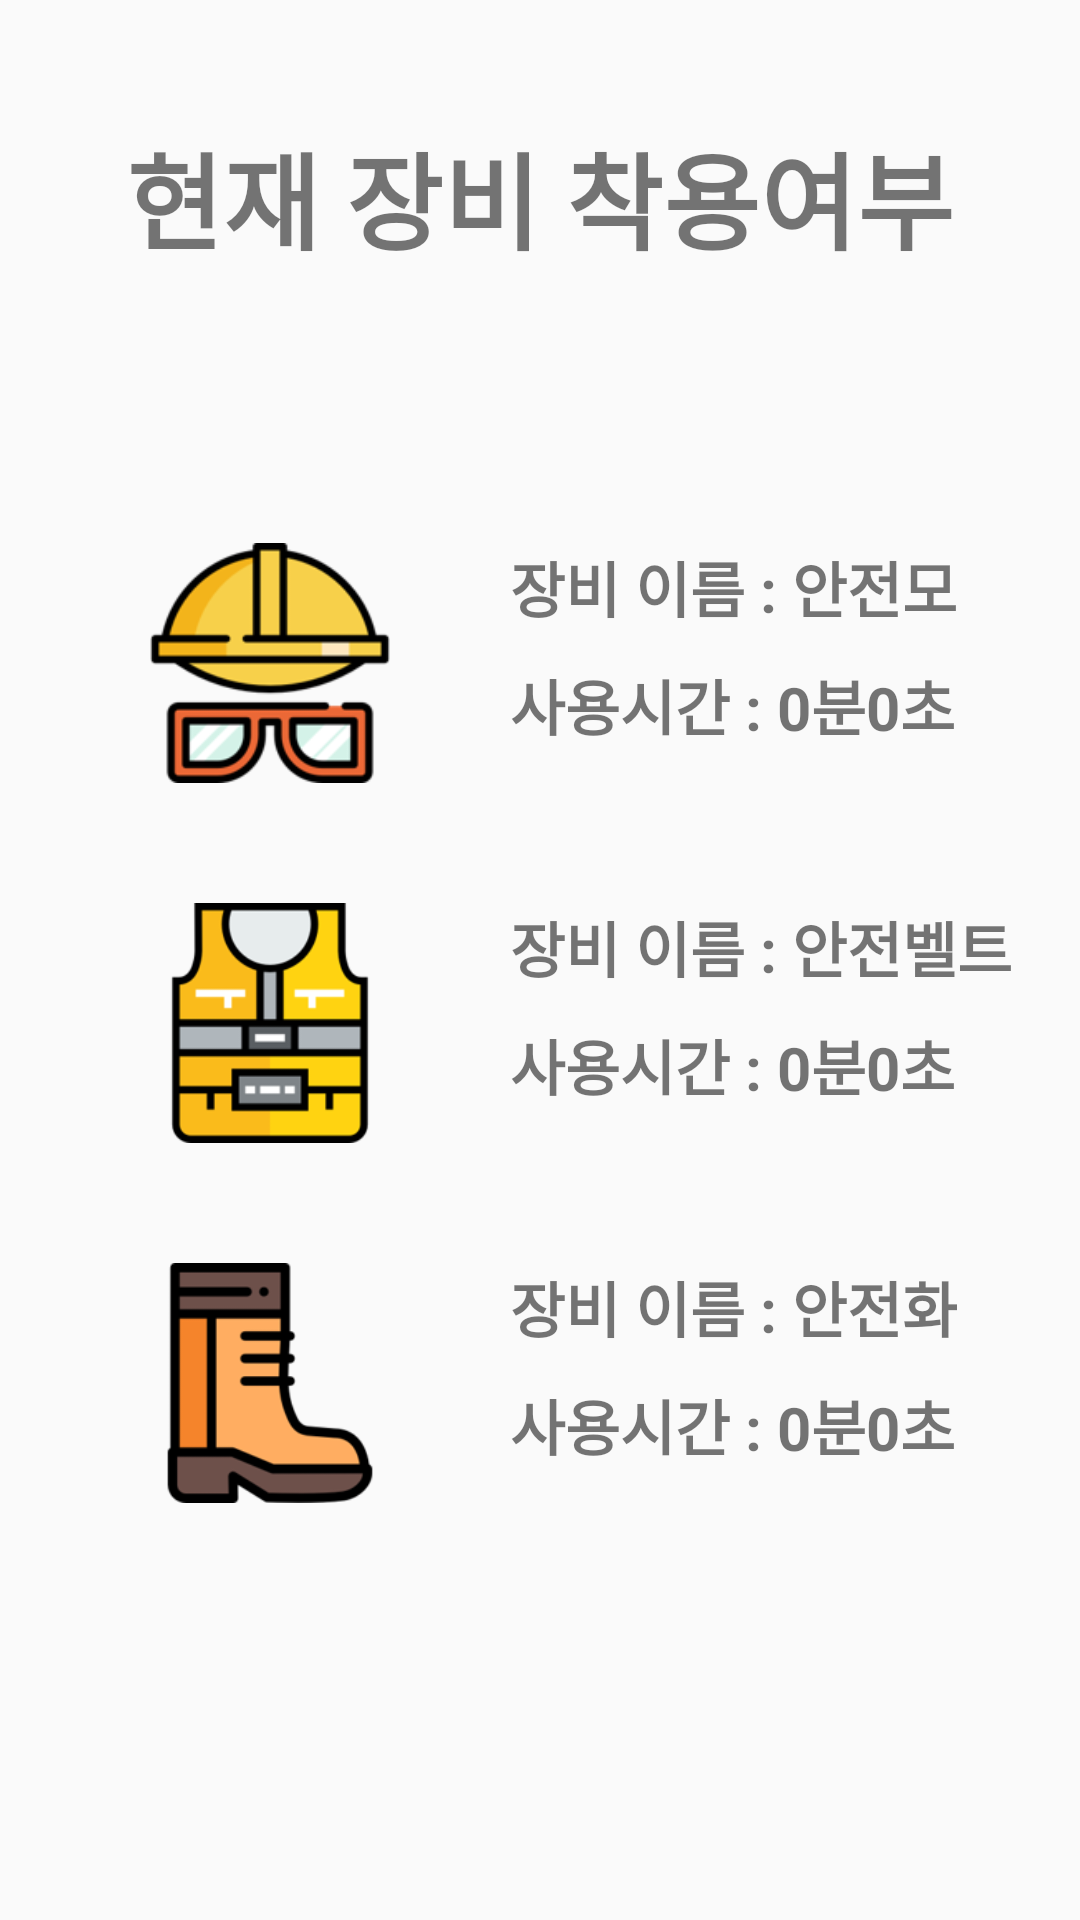

Named icons in this screenshot (1080×1920) and their bounding boxes, box=[x1, y1, x2, y2]:
helmet: box=[150, 543, 390, 783]
shoes: box=[167, 1263, 373, 1503]
